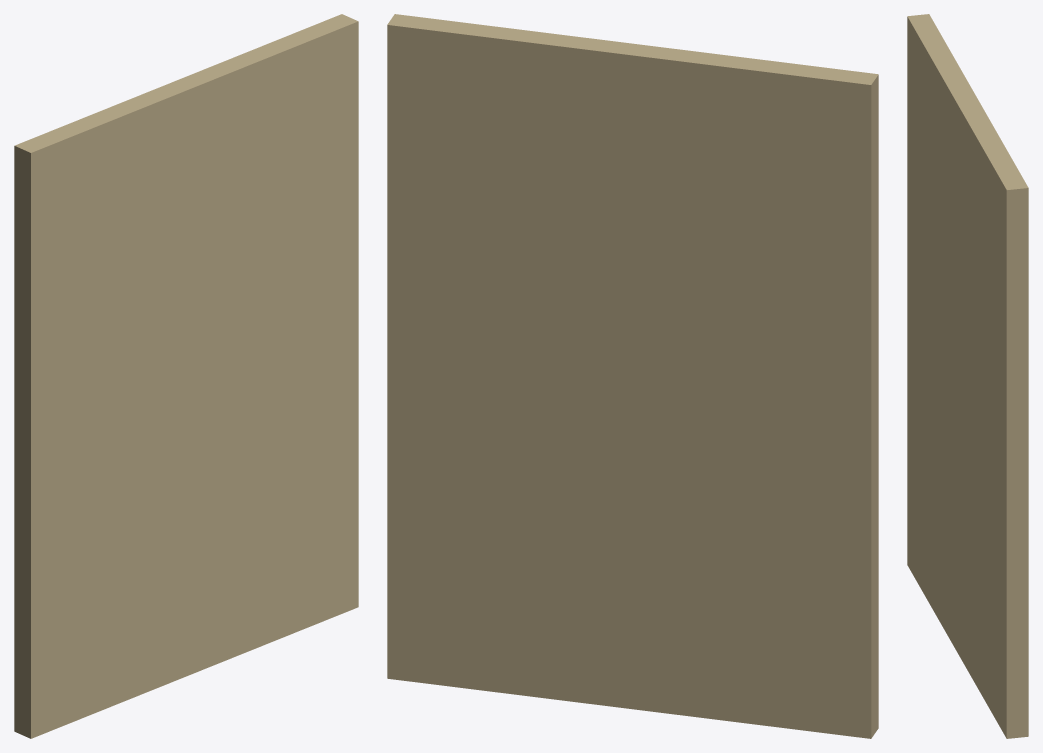
The picture shows the model from 3 angles, left to right: view 1: azimuth 30°, elevation 25°; view 2: azimuth 150°, elevation 25°; view 3: azimuth 270°, elevation 25°; orthographic projection. The views are drawn at different scales.
Visible parts, largest first — view 1: GF-W030; view 2: GF-W030; view 3: GF-W030.
Part boxes in pixels (box(x1,y1,x2,y2)): GF-W030: box(14, 14, 358, 738); GF-W030: box(387, 14, 878, 738); GF-W030: box(907, 14, 1028, 738).
Size of the model in its own units: 1.67 by 2.42 by 0.4849.
